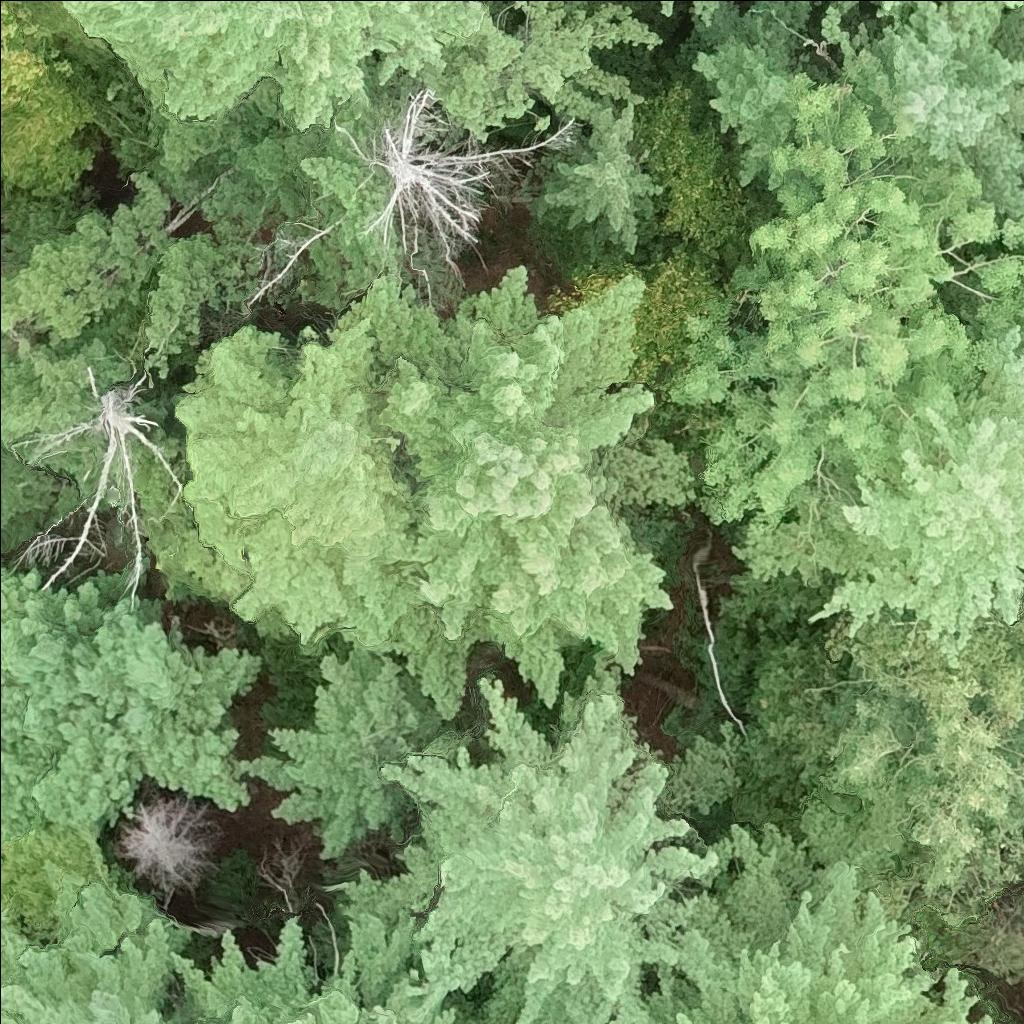crown: (673, 75, 1023, 577), (360, 266, 691, 719), (345, 648, 717, 1023), (133, 301, 420, 652), (0, 176, 234, 555), (66, 0, 663, 138), (0, 571, 263, 854), (809, 319, 1023, 664), (826, 568, 1023, 926), (697, 0, 1023, 213), (638, 868, 985, 1023), (229, 644, 422, 859), (174, 884, 453, 1023), (362, 88, 573, 246), (32, 385, 180, 588), (0, 886, 191, 1023), (554, 239, 732, 377), (631, 84, 751, 256), (545, 104, 665, 252), (0, 814, 106, 940), (0, 65, 92, 194), (122, 799, 205, 889), (0, 0, 43, 109), (1009, 279, 1023, 356), (1003, 716, 1023, 739), (1016, 133, 1023, 186), (664, 0, 679, 18), (705, 0, 720, 16), (880, 0, 901, 6), (842, 0, 869, 4)
